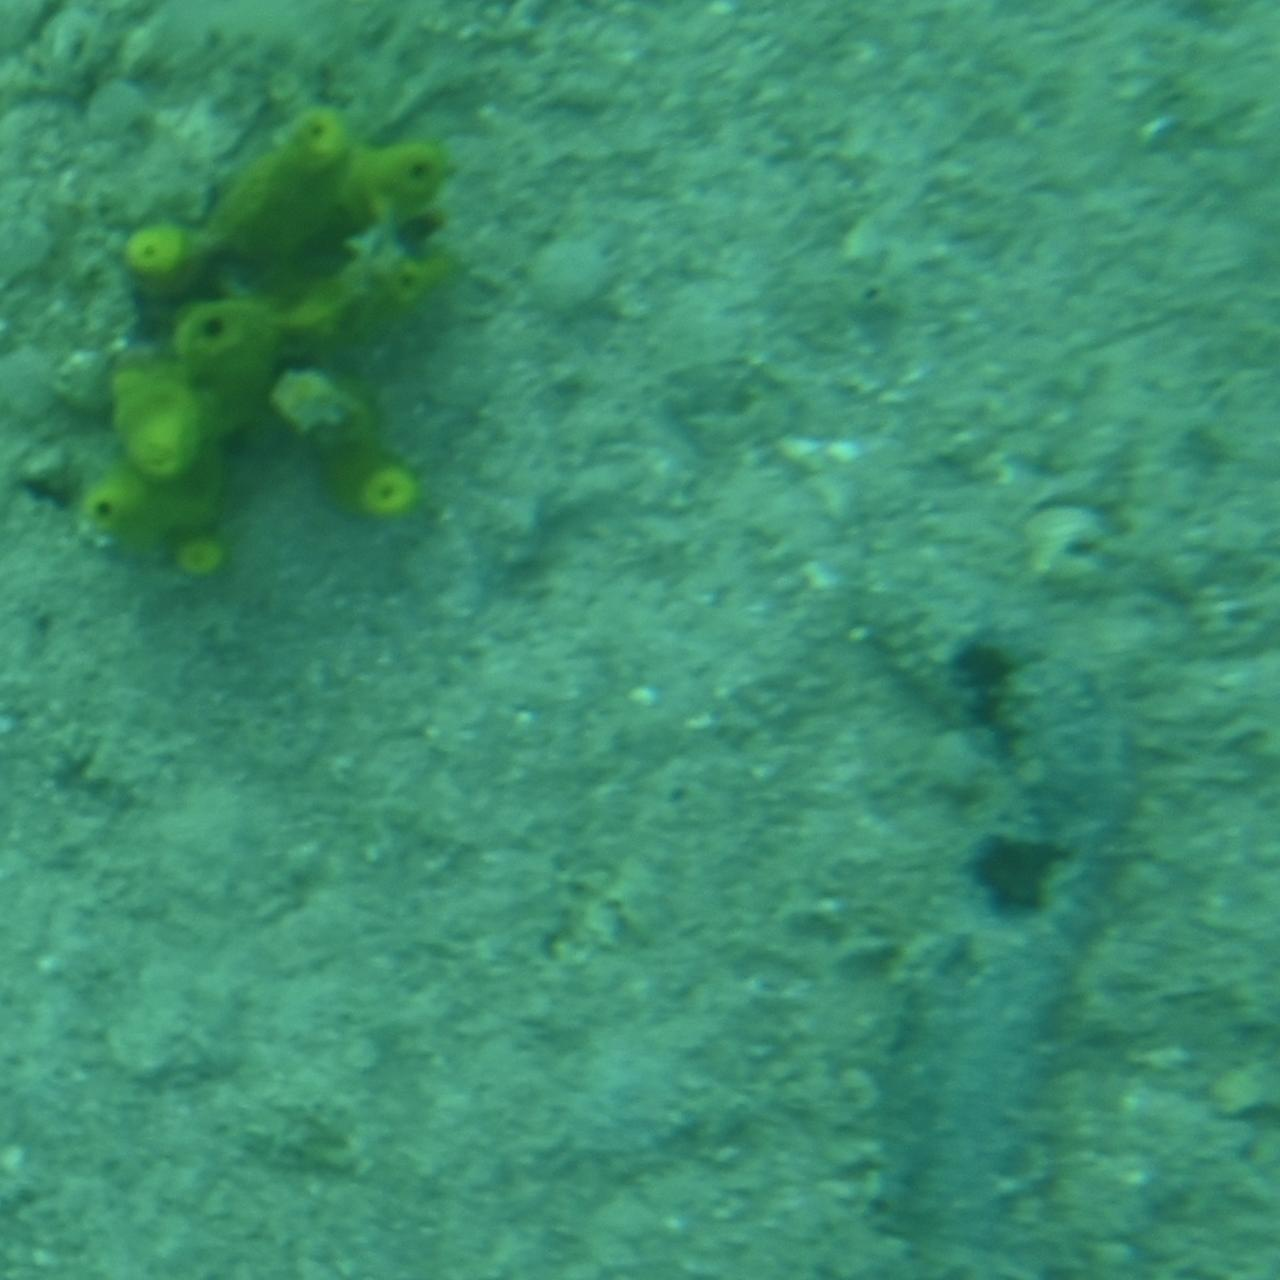Aplysina aerophoba: (20, 102, 486, 594)
Holothuria tubulosa: (884, 549, 1172, 1280)
